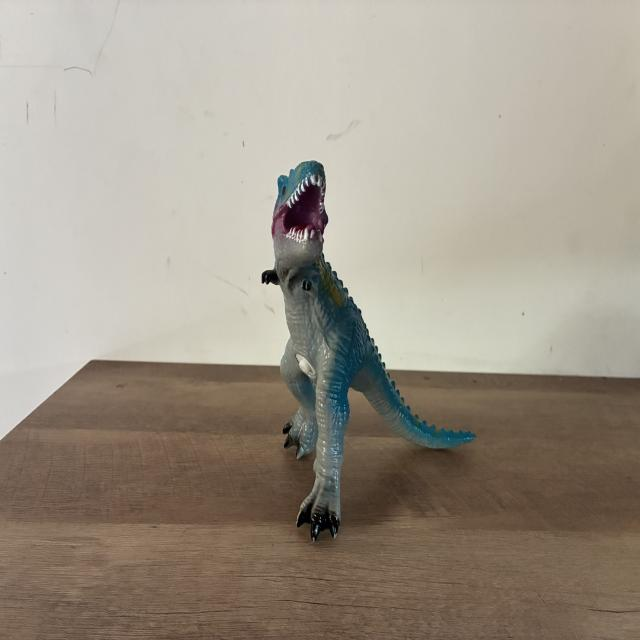dinosaur: (262, 161, 475, 542)
